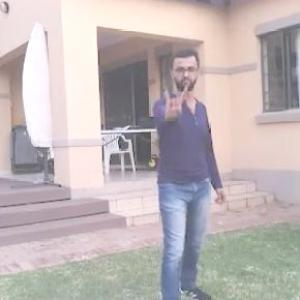takeoff-hand: (162, 83, 192, 122)
